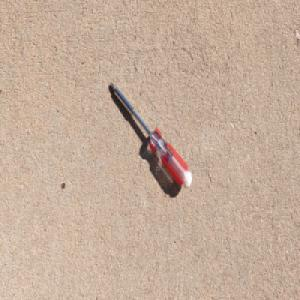Screwdriver: (109, 79, 193, 190)
